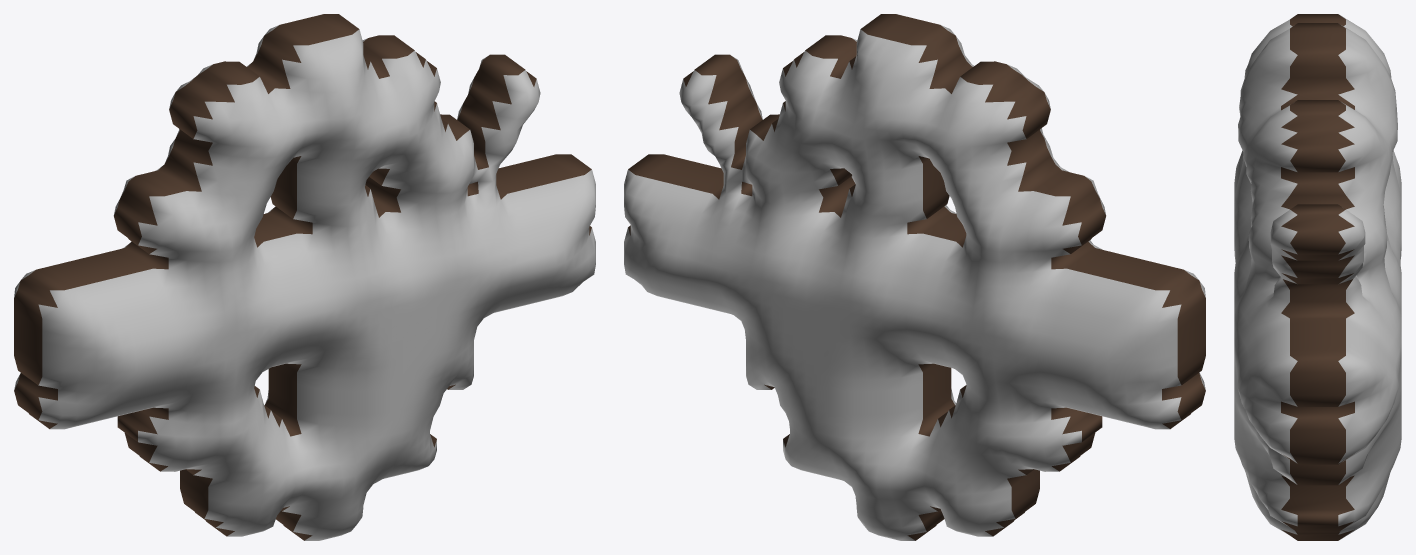
File: gear_brake.glb
3 views of the same model, side by side, from view 1: azimuth 30°, elevation 25°; view 2: azimuth 150°, elevation 25°; view 3: azimuth 270°, elevation 25° (orthographic).
Visible parts, largest first — view 1: gear_brake; view 2: gear_brake; view 3: gear_brake.
Part boxes in pixels (box(x1,y1,x2,y2)): gear_brake: box(14, 14, 595, 540); gear_brake: box(624, 14, 1205, 540); gear_brake: box(1234, 14, 1401, 540).
Size of the model in its own units: 0.8281 by 0.7121 by 0.22.
